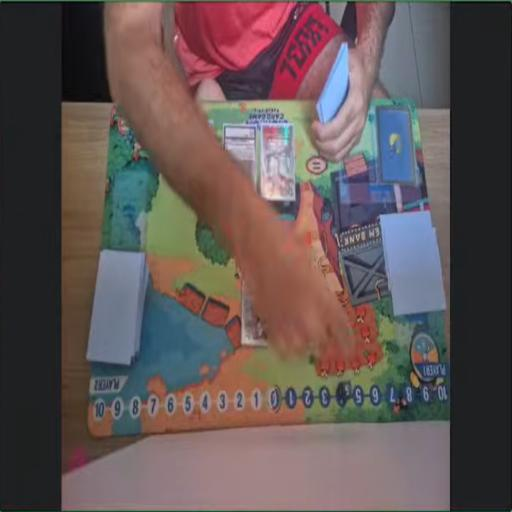card: (261, 122, 298, 200), (222, 124, 256, 194), (240, 276, 272, 350)
